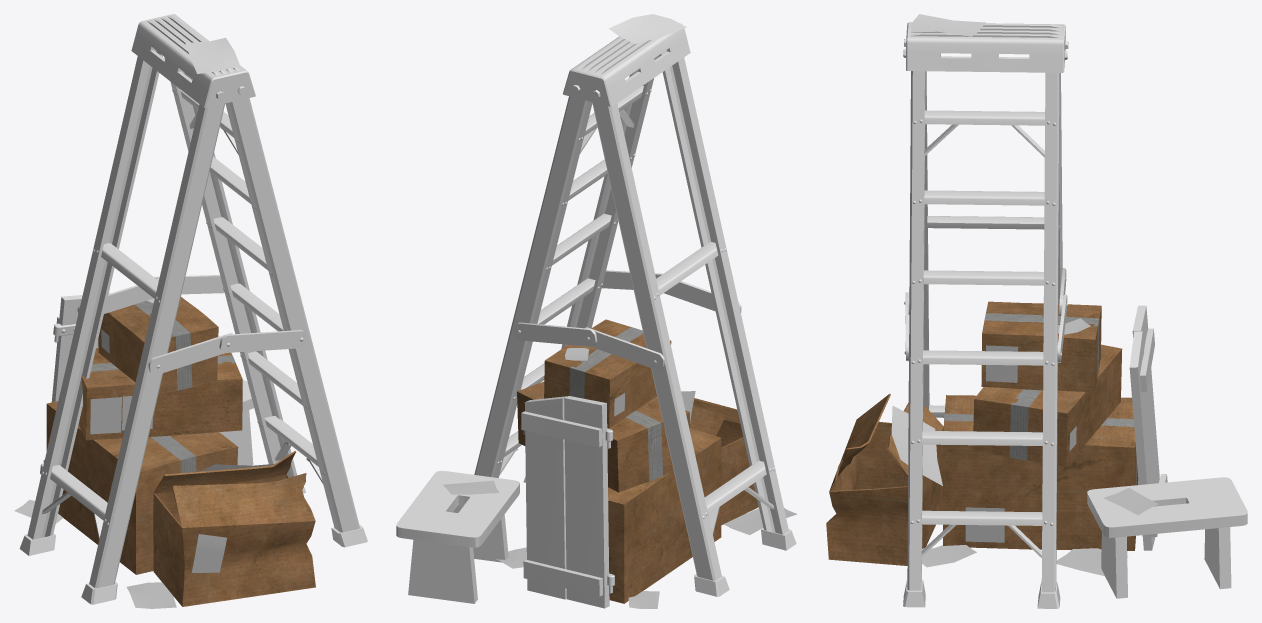
File: TrashPileD.fbx
The picture shows the model from 3 angles, left to right: view 1: azimuth 30°, elevation 25°; view 2: azimuth 150°, elevation 25°; view 3: azimuth 270°, elevation 25°; orthographic projection. The views are drawn at different scales.
Parts seen in each view (by area): view 1: TrashPileD; view 2: TrashPileD; view 3: TrashPileD.
Part boxes in pixels (x1=…): TrashPileD: x1=14, y1=14, x2=367, y2=608; TrashPileD: x1=396, y1=14, x2=797, y2=608; TrashPileD: x1=826, y1=14, x2=1247, y2=608.
Bounding box in the file's own units: 1.16 × 2.03 × 1.5.
